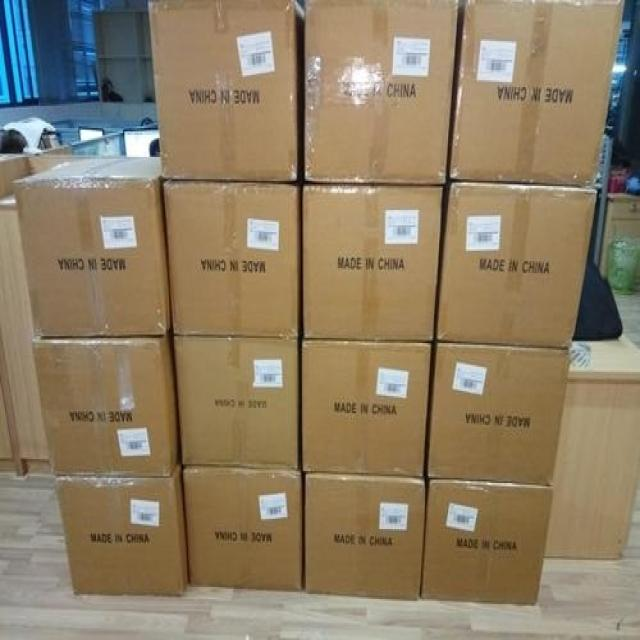box: (448, 1, 624, 186), (11, 153, 171, 339), (147, 0, 304, 182), (303, 2, 458, 184), (436, 184, 598, 350), (302, 184, 442, 342), (164, 178, 299, 334), (33, 330, 178, 475), (427, 343, 569, 484), (53, 459, 188, 596), (301, 343, 434, 476), (171, 333, 301, 469), (421, 474, 552, 604), (304, 473, 425, 599), (183, 470, 303, 589)
